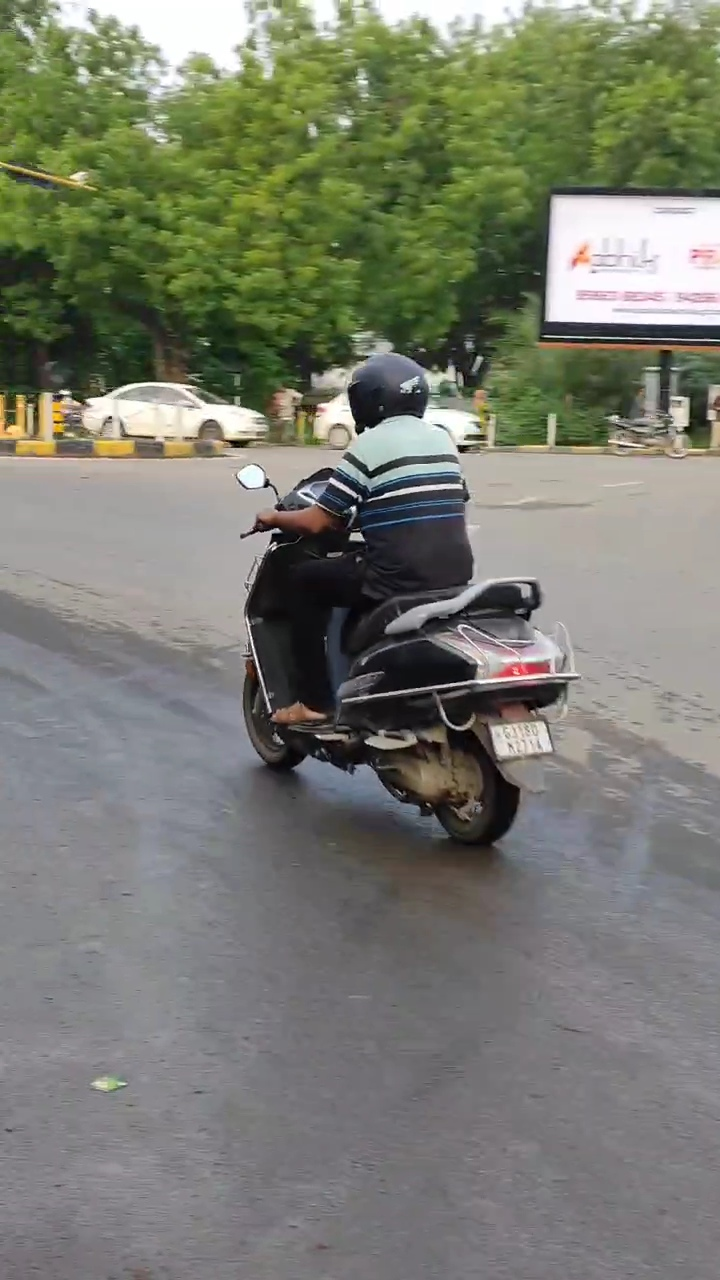BikeWithRider: (219, 341, 593, 855)
Helmet: (335, 344, 440, 436)
